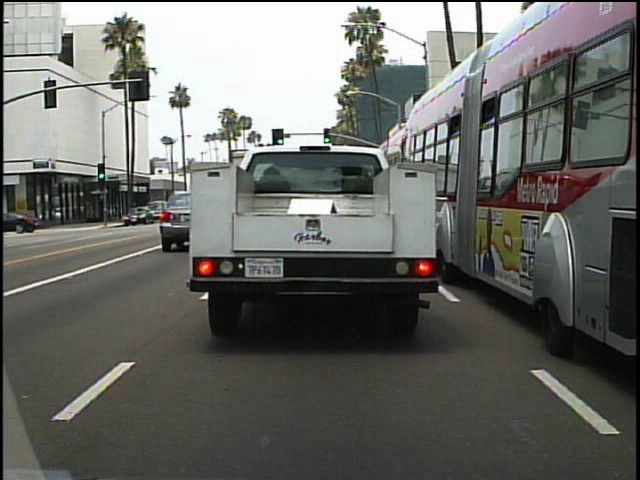person: (17, 206, 36, 241)
